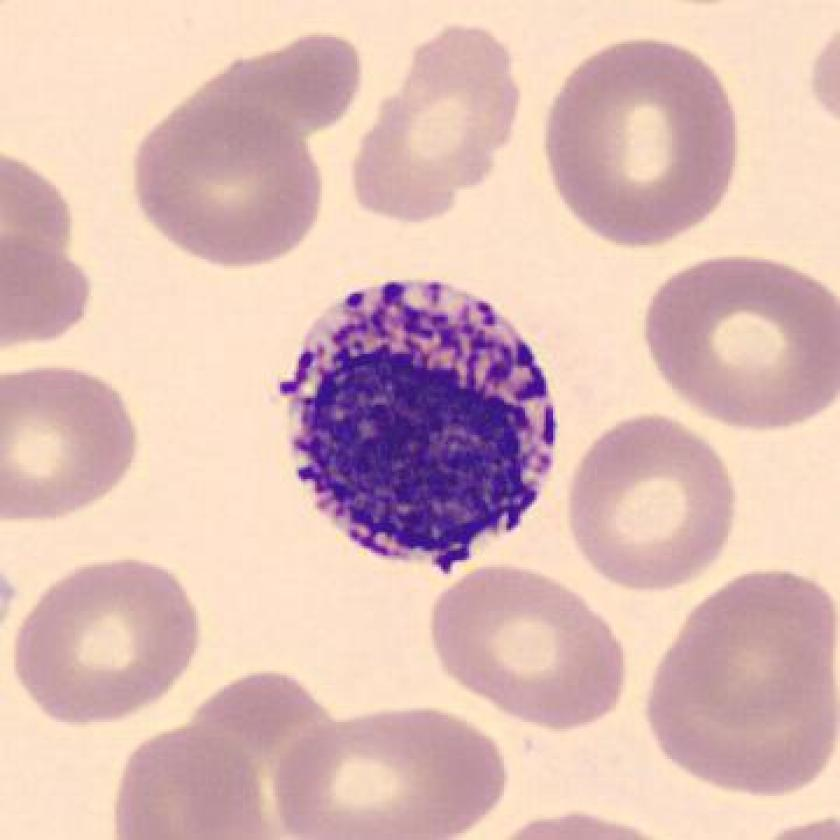basophil: (283, 277, 561, 580)
